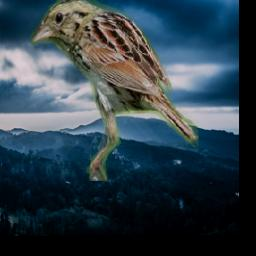Sparrow: (32, 0, 199, 182)
